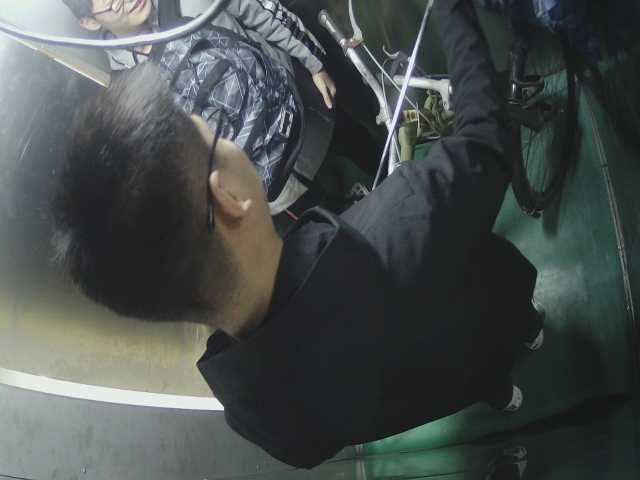bicycle: (304, 10, 620, 206)
person: (56, 82, 537, 421), (44, 1, 340, 100)
